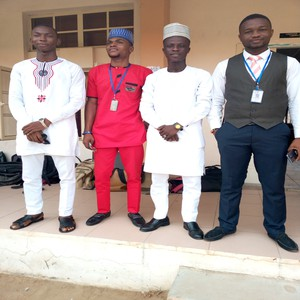Fulokoja_male_student: (213, 15, 291, 244), (13, 24, 74, 226), (146, 24, 199, 238), (92, 29, 145, 225)
